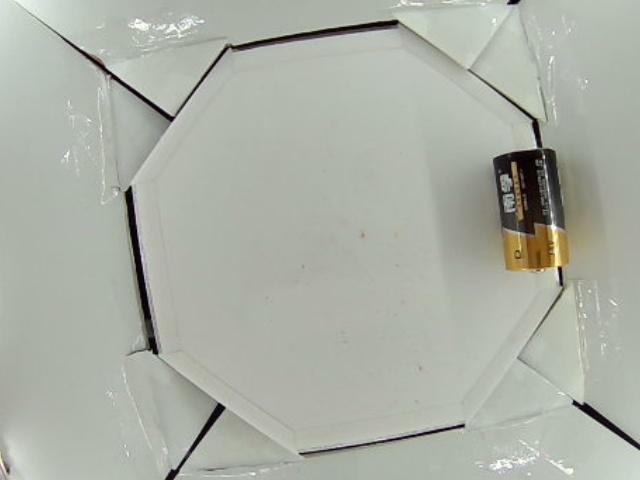Battery: (493, 147, 571, 271)
